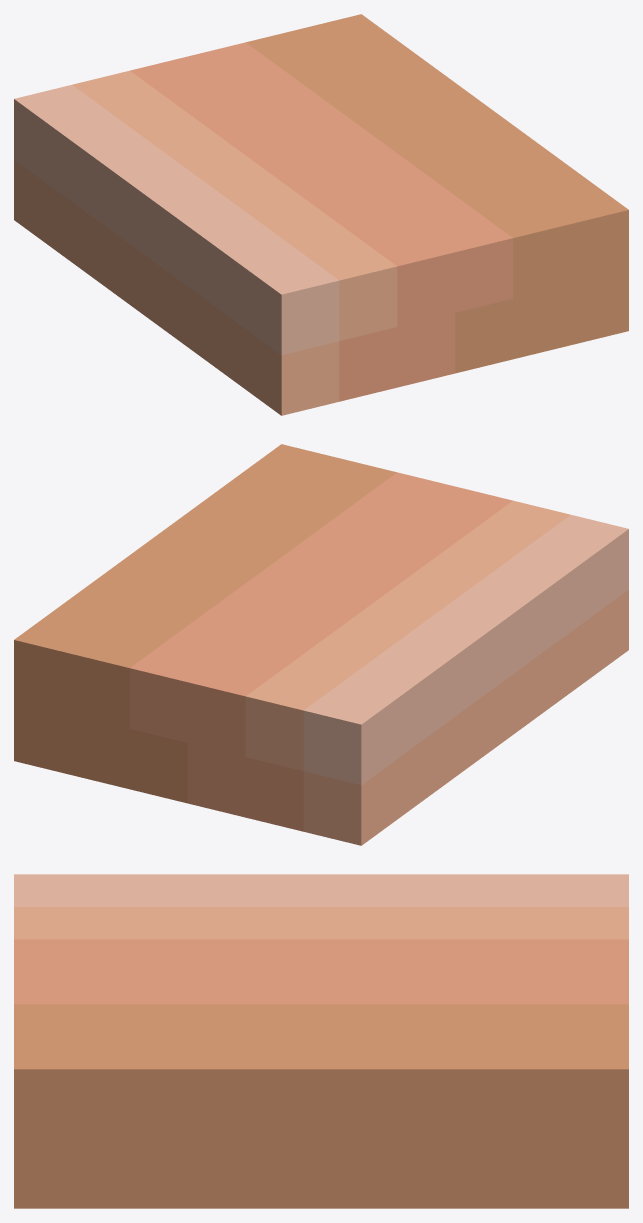
File: RoseGoldIngot.obj
3 renders of one model, top to bottom at view 1: azimuth 30°, elevation 25°; view 2: azimuth 150°, elevation 25°; view 3: azimuth 270°, elevation 25°, orthographic. The views are drawn at different scales.
Size of the model in its own units: 0.6 by 0.2 by 0.8.
1 material, 1 textured.
